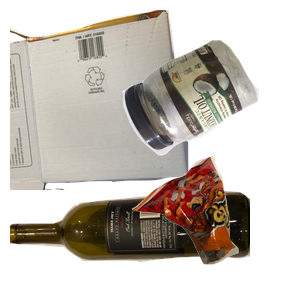cardboard: (10, 10, 191, 190)
glass: (10, 189, 250, 300)
plastic: (120, 37, 300, 185)
trash: (130, 153, 300, 300)
